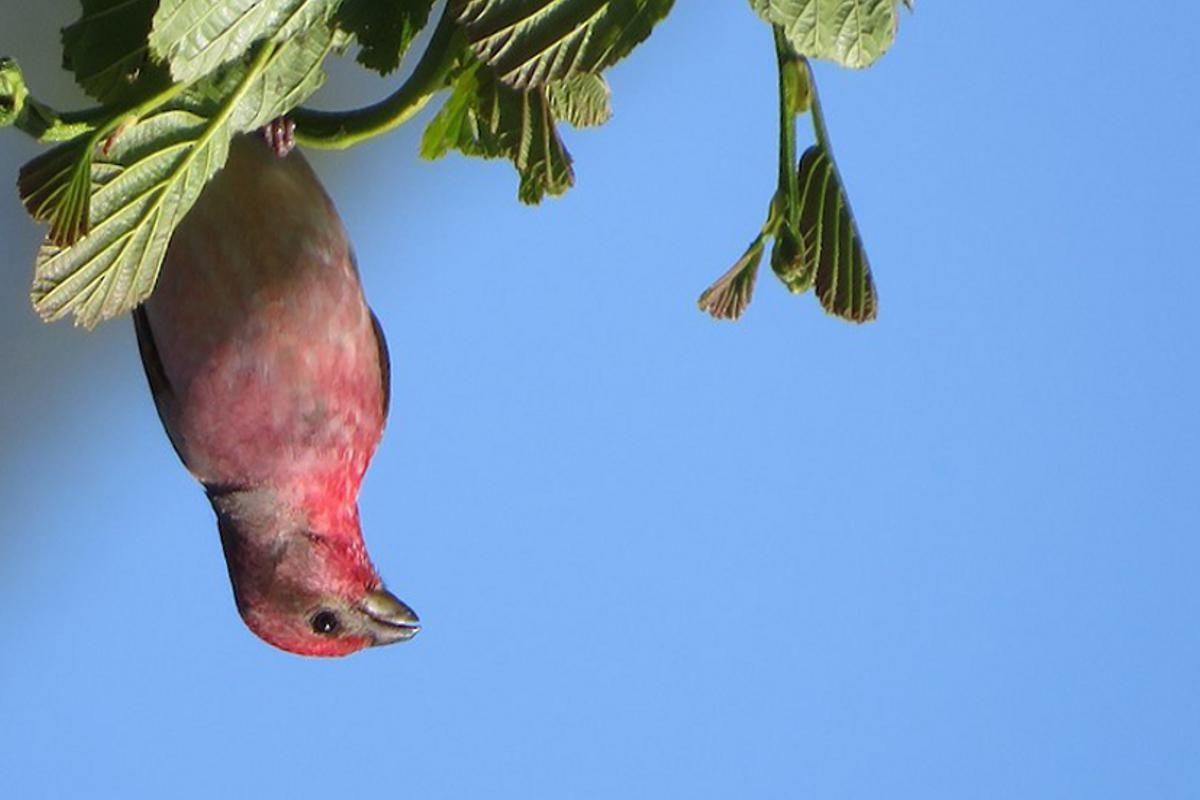rosefinch: (120, 62, 446, 670)
